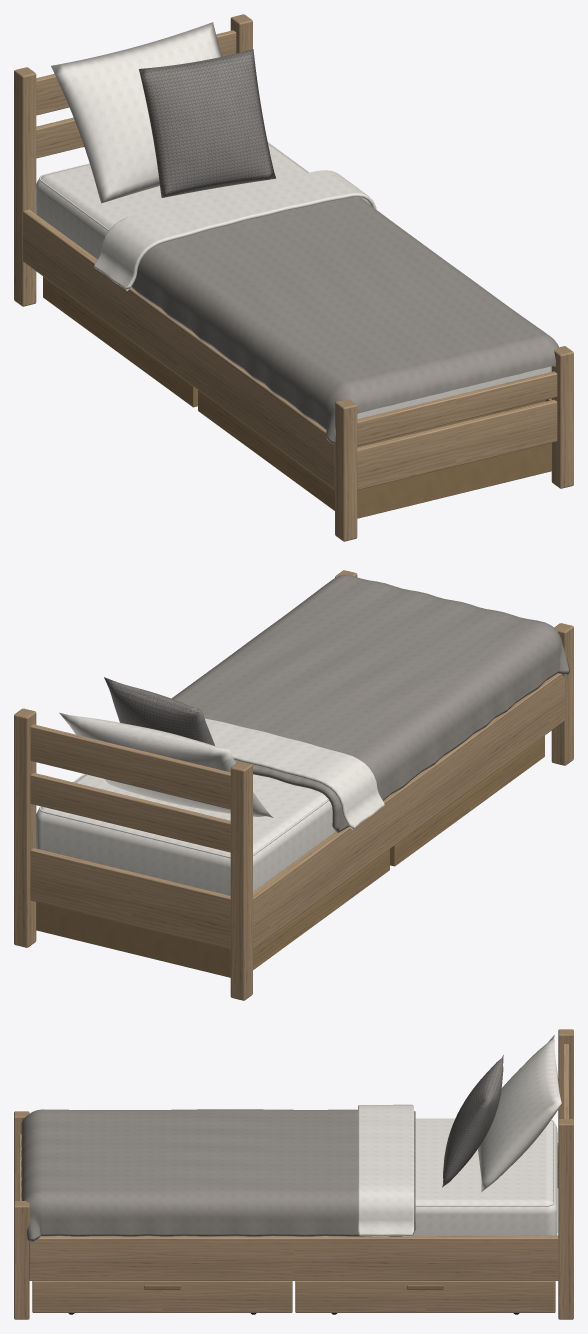
3 views of the same model, one above another, from view 1: azimuth 30°, elevation 25°; view 2: azimuth 150°, elevation 25°; view 3: azimuth 270°, elevation 25° (orthographic). The views are drawn at different scales.
Visible parts, largest first — view 1: duvet, side_rail_-1, pillow_decor, pillow_sleep, duvet_cuff, foot_rail, drawer_box_1, mattress, footboard, post_-1_-1, drawer_box_0, post_-1_1 (+4 smaller); view 2: duvet, side_rail_-1, mattress, headboard_low, drawer_box_0, headboard_top, duvet_cuff, headboard_mid, post_-1_-1, pillow_sleep, post_1_-1, pillow_decor (+3 smaller); view 3: duvet, side_rail_1, mattress, drawer_front_0, drawer_front_1, duvet_cuff, pillow_sleep, pillow_decor, post_1_-1, post_1_1, post_-1_-1, post_-1_1 (+2 smaller).
Part boxes in pixels (x1,y1,x2,y2): duvet: [131, 197, 558, 444]; side_rail_-1: [22, 209, 334, 489]; pillow_decor: [139, 49, 275, 197]; pillow_sleep: [51, 22, 222, 203]; duvet_cuff: [94, 170, 376, 290]; foot_rail: [357, 399, 557, 489]; drawer_box_1: [198, 390, 551, 518]; mattress: [35, 143, 551, 419]; footboard: [357, 371, 557, 445]; post_-1_-1: [14, 67, 36, 306]; drawer_box_0: [43, 276, 197, 407]; post_-1_1: [335, 399, 357, 541]; duvet: [171, 575, 569, 832]; side_rail_-1: [253, 673, 565, 948]; mattress: [36, 774, 334, 895]; headboard_low: [30, 848, 230, 949]; drawer_box_0: [36, 849, 389, 977]; headboard_top: [30, 724, 230, 809]; duvet_cuff: [205, 718, 384, 829]; headboard_mid: [30, 773, 230, 852]; post_-1_-1: [230, 761, 252, 1000]; pillow_sleep: [59, 712, 273, 817]; post_1_-1: [14, 708, 36, 947]; pillow_decor: [104, 677, 214, 745]; duvet: [21, 1109, 415, 1242]; side_rail_1: [29, 1235, 558, 1280]; mattress: [413, 1118, 557, 1235]; drawer_front_0: [295, 1281, 555, 1312]; drawer_front_1: [32, 1281, 292, 1312]; duvet_cuff: [358, 1104, 413, 1236]; pillow_sleep: [478, 1035, 561, 1191]; pillow_decor: [442, 1055, 503, 1187]; post_1_-1: [558, 1119, 573, 1319]; post_1_1: [14, 1201, 29, 1319]; post_-1_-1: [558, 1029, 573, 1119]; post_-1_1: [14, 1111, 29, 1201].
Size of the model in its own units: 0.97 by 0.86 by 2.13.
Materials: 8 (7 with a texture image).
